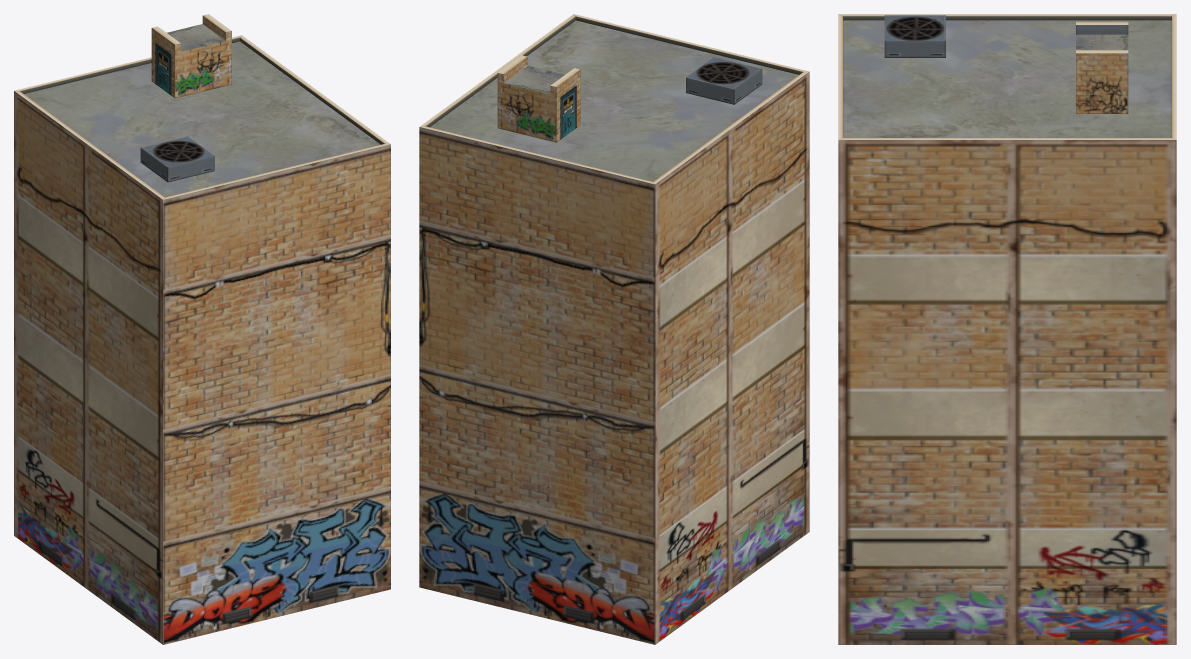
The model's file is building 2.fbx.
The picture shows the model from 3 angles, left to right: view 1: azimuth 30°, elevation 25°; view 2: azimuth 150°, elevation 25°; view 3: azimuth 270°, elevation 25°; orthographic projection. The views are drawn at different scales.
Visible parts, largest first — view 1: building_2; view 2: building_2; view 3: building_2.
Boxes of the visible parts, bbox=[...] form: building_2: bbox=[14, 14, 390, 644]; building_2: bbox=[419, 14, 809, 644]; building_2: bbox=[838, 14, 1176, 644].
Size of the model in its own units: 1500 by 3114 by 1700.
